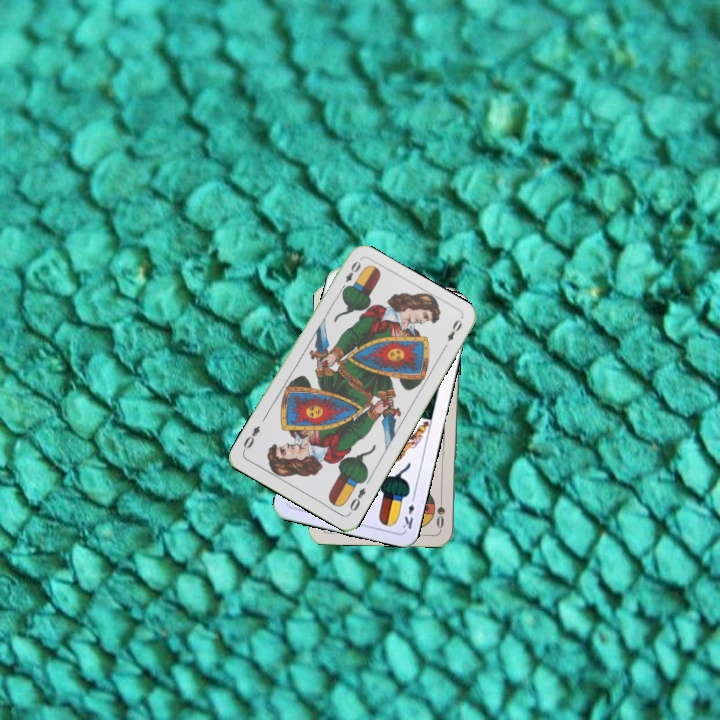EK: (398, 491, 418, 532)
EO: (336, 257, 363, 294), (345, 483, 368, 516)
SO: (433, 490, 447, 531)
